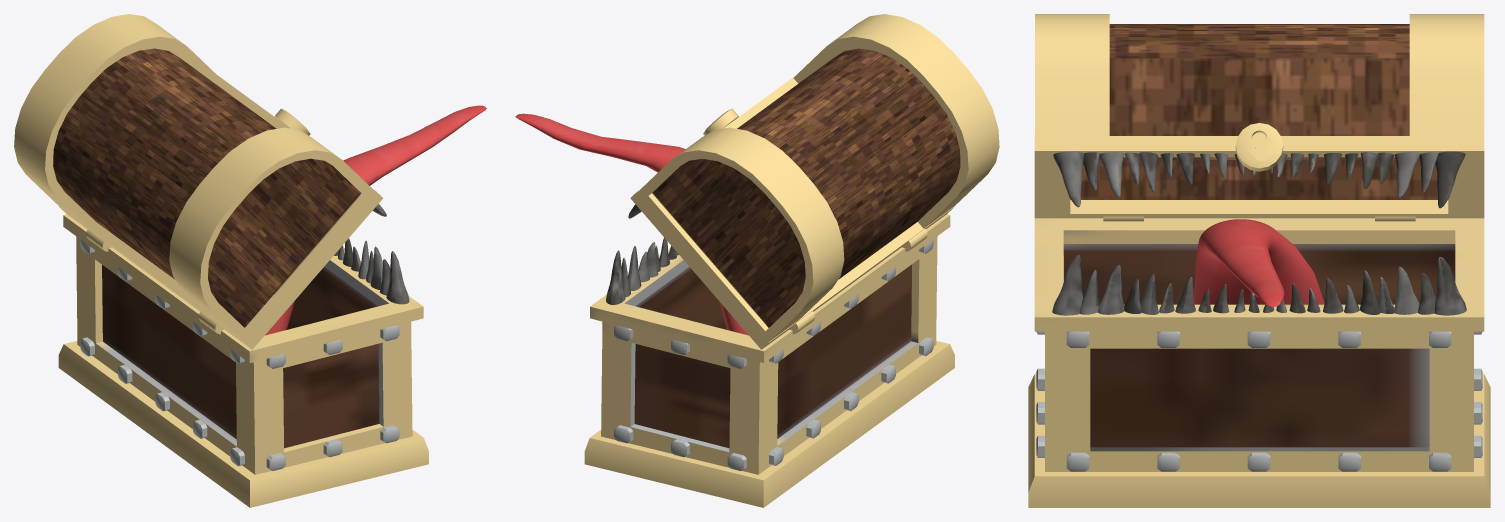
File: chest1.fbx
3 renders of one model, left to right at view 1: azimuth 30°, elevation 25°; view 2: azimuth 150°, elevation 25°; view 3: azimuth 270°, elevation 25°, orthographic. The views are drawn at different scales.
Parts seen in each view (by area): view 1: Cylinder.001, Cube, Cube.002, Sphere, Circle, Cube.003, Cube.005; view 2: Cylinder.001, Cube, Cube.002, Sphere, Circle, Cube.003, Cube.005; view 3: Cube, Cylinder.001, Cube.002, Circle, Sphere, Circle.032, Cube.003, Cube.005.
Part boxes in pixels (<box>): Cylinder.001: <box>14,14,382,349</box>; Cube: <box>63,214,423,474</box>; Cube.002: <box>58,341,428,507</box>; Sphere: <box>265,105,486,335</box>; Circle: <box>334,238,409,304</box>; Cube.003: <box>80,239,244,466</box>; Cube.005: <box>266,325,399,470</box>; Cylinder.001: <box>630,14,999,349</box>; Cube: <box>590,214,950,474</box>; Cube.002: <box>584,341,954,507</box>; Sphere: <box>515,113,748,335</box>; Circle: <box>606,237,678,304</box>; Cube.003: <box>769,239,933,465</box>; Cube.005: <box>614,325,746,470</box>; Cube: <box>1034,218,1484,471</box>; Cylinder.001: <box>1034,14,1484,218</box>; Cube.002: <box>1028,373,1490,507</box>; Circle: <box>1052,255,1466,315</box>; Sphere: <box>1193,219,1324,306</box>; Circle.032: <box>1053,151,1465,208</box>; Cube.003: <box>1066,331,1451,471</box>; Cube.005: <box>1036,331,1482,457</box>.
Bounding box in the file's own units: 537 × 455 × 463.
